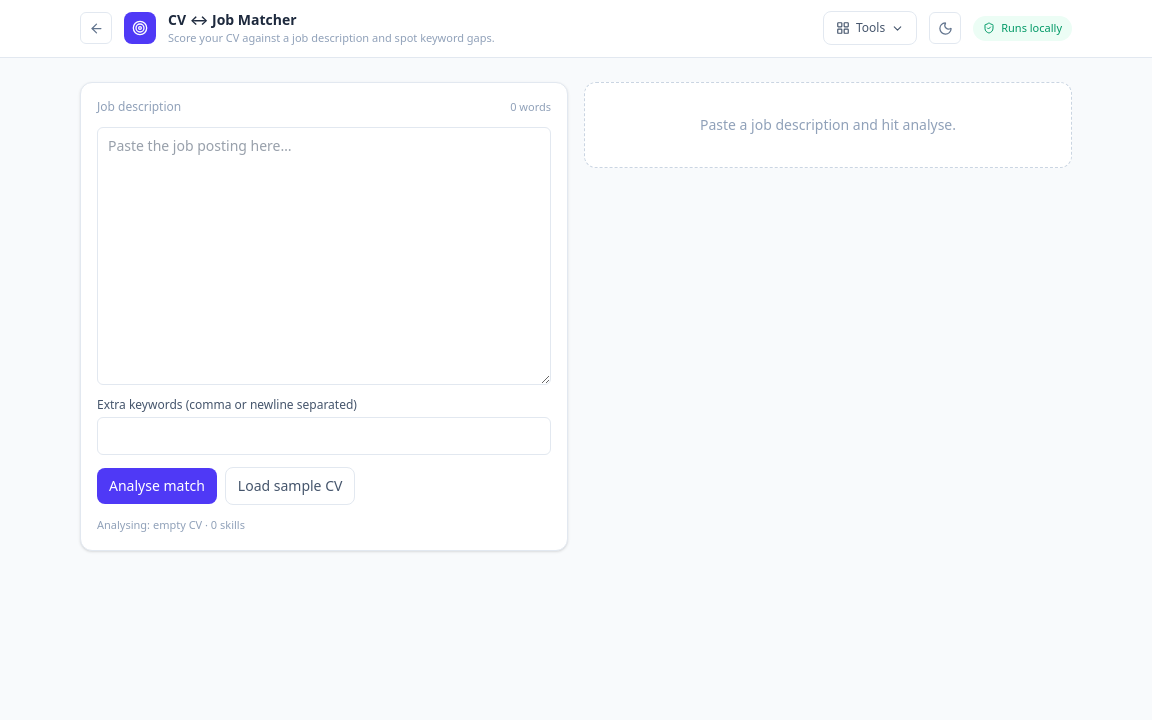
it: CvJobMatcherApp › analyses a job description
Type "We need react typescript graphql experience" into the text box named "Job description" at (324, 256), box [97,127,551,385]
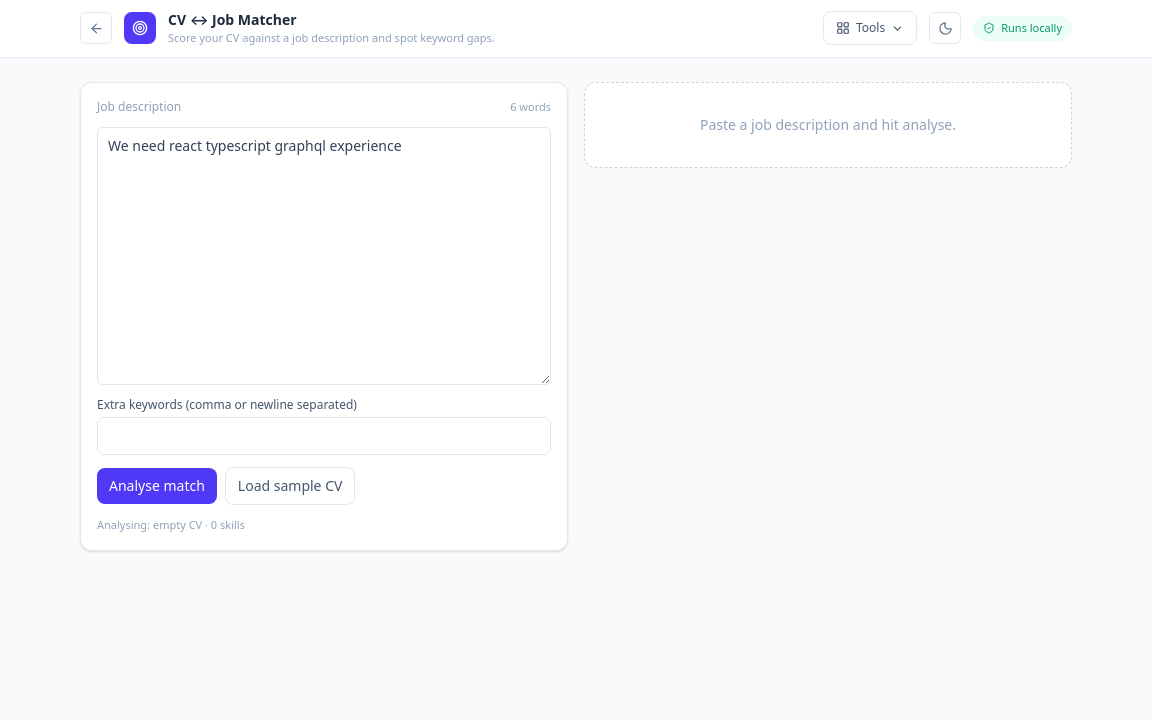
Click the button "Analyse match" at (157, 486), box [97,468,217,504]
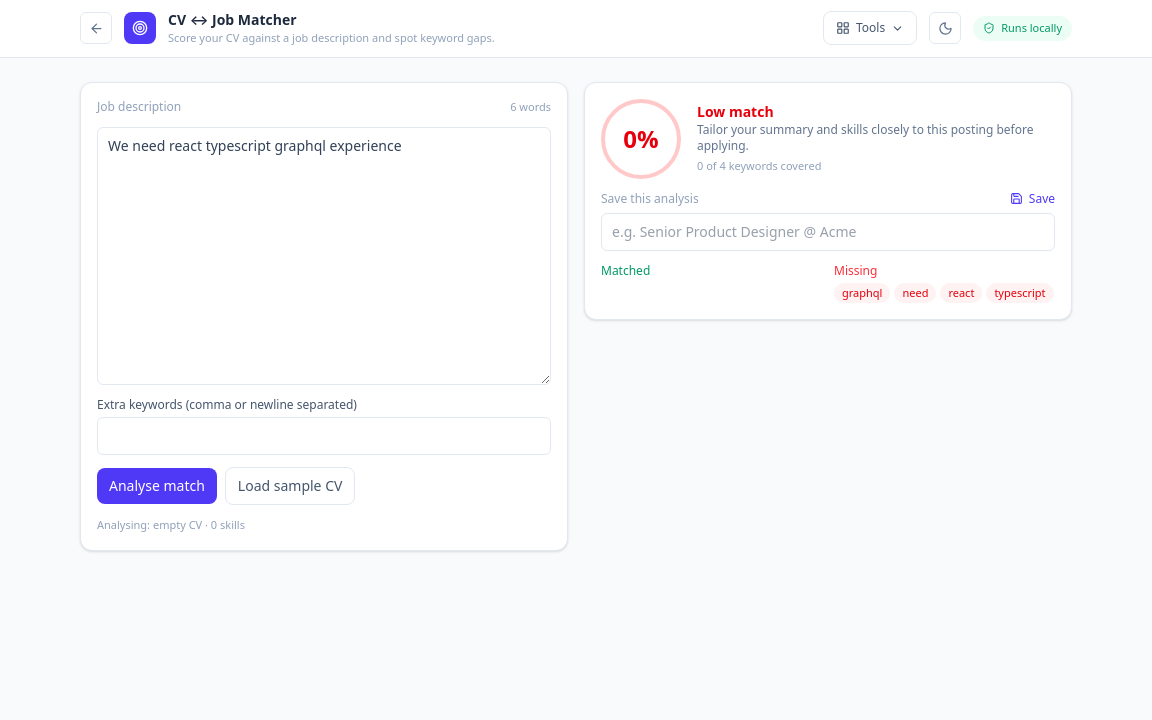
Expected: the element named "Match score" is shown, [601,98,681,178]
